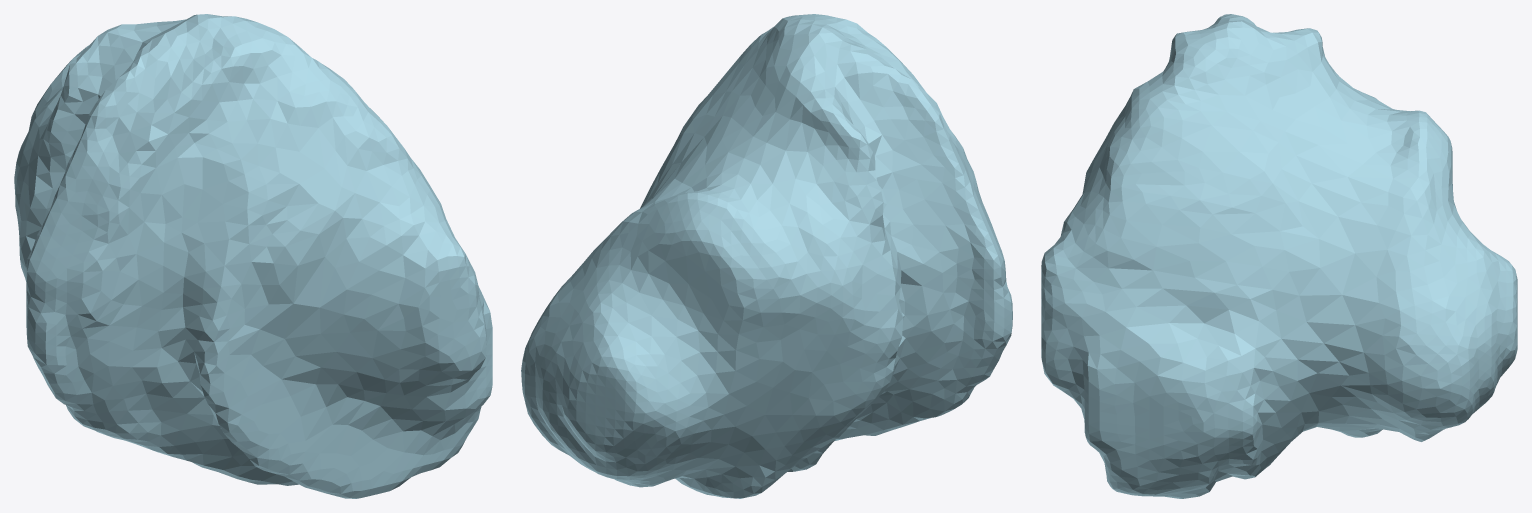
The model's file is livertumor.obj.
The picture shows the model from 3 angles, left to right: view 1: azimuth 30°, elevation 25°; view 2: azimuth 150°, elevation 25°; view 3: azimuth 270°, elevation 25°; orthographic projection. The views are drawn at different scales.
Parts seen in each view (by area): view 1: grp1; view 2: grp1; view 3: grp1.
Boxes of the visible parts, <box> form: grp1: <box>14,14,492,498</box>; grp1: <box>521,14,1012,498</box>; grp1: <box>1041,14,1517,498</box>.
Bounding box in the file's own units: 31.62 × 33.93 × 35.2.
